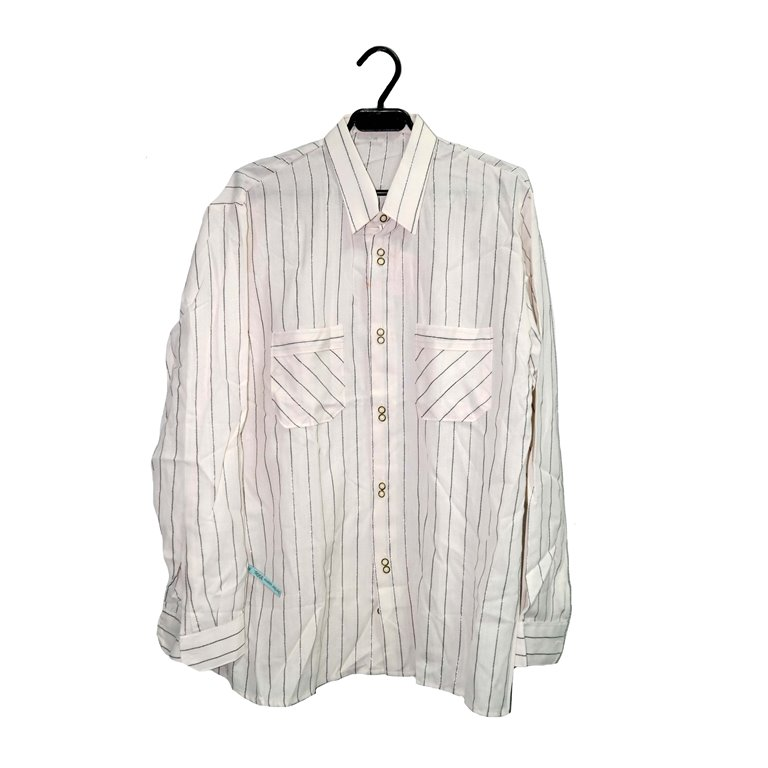striped: (140, 106, 576, 721)
